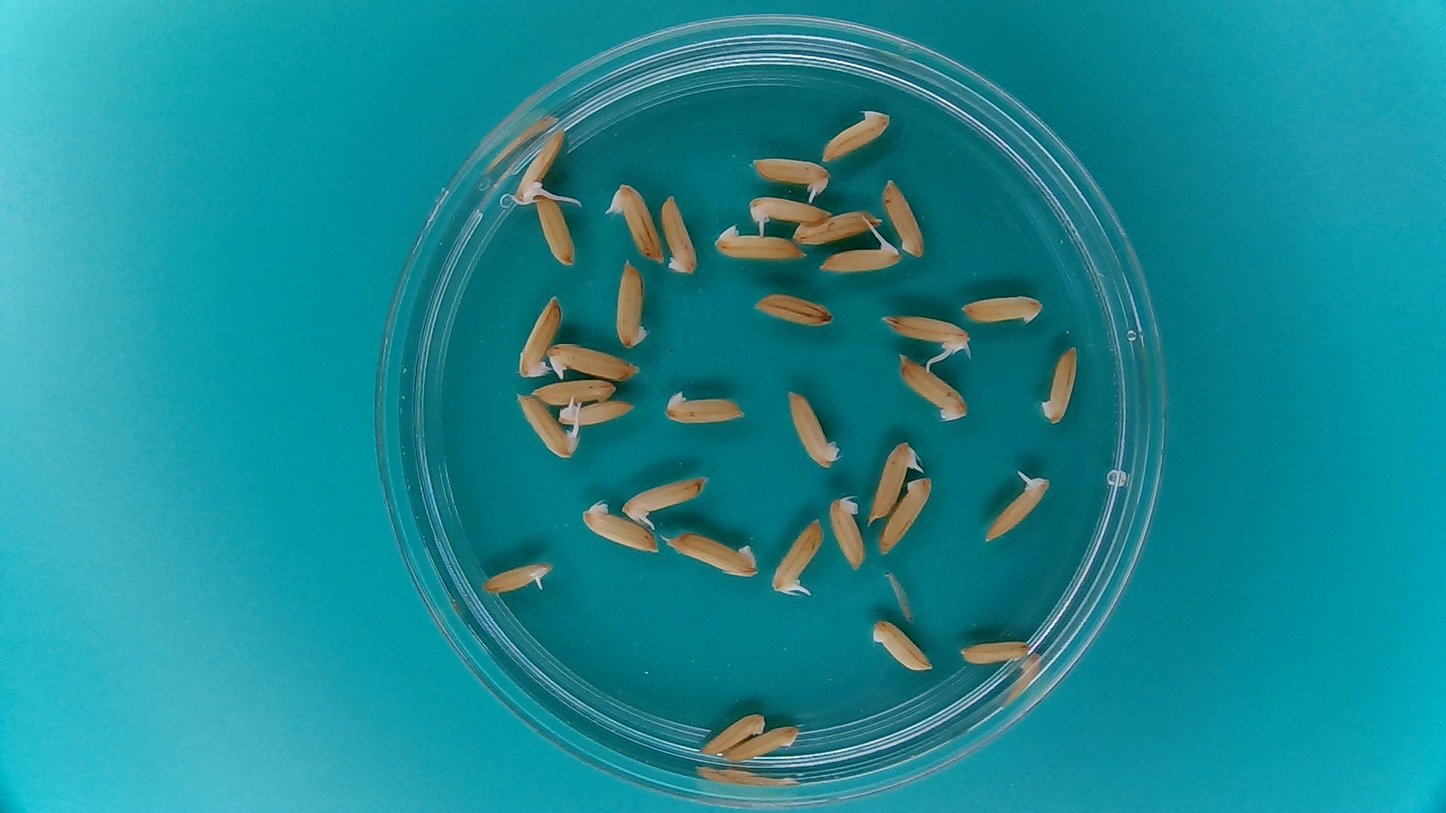no: (892, 352, 971, 423), (575, 498, 664, 556), (662, 528, 760, 580), (783, 385, 840, 470), (817, 105, 895, 165), (513, 291, 563, 382), (878, 474, 933, 556), (1033, 340, 1081, 428), (867, 616, 936, 675), (880, 176, 929, 259), (658, 384, 751, 427), (790, 207, 885, 248), (612, 255, 652, 352), (532, 185, 578, 269), (712, 221, 808, 261), (721, 721, 802, 766), (696, 709, 768, 758), (658, 192, 699, 276), (749, 290, 835, 329), (827, 493, 868, 574), (956, 291, 1045, 327), (528, 376, 619, 406), (954, 636, 1033, 668)
yes: (980, 463, 1055, 546), (877, 307, 975, 361), (868, 437, 923, 525), (619, 472, 710, 525), (611, 178, 664, 264), (545, 338, 642, 384), (771, 516, 825, 598), (514, 122, 566, 205), (516, 393, 578, 459), (816, 234, 904, 276), (746, 157, 831, 196), (745, 190, 832, 228), (477, 556, 556, 597), (558, 399, 639, 428)
